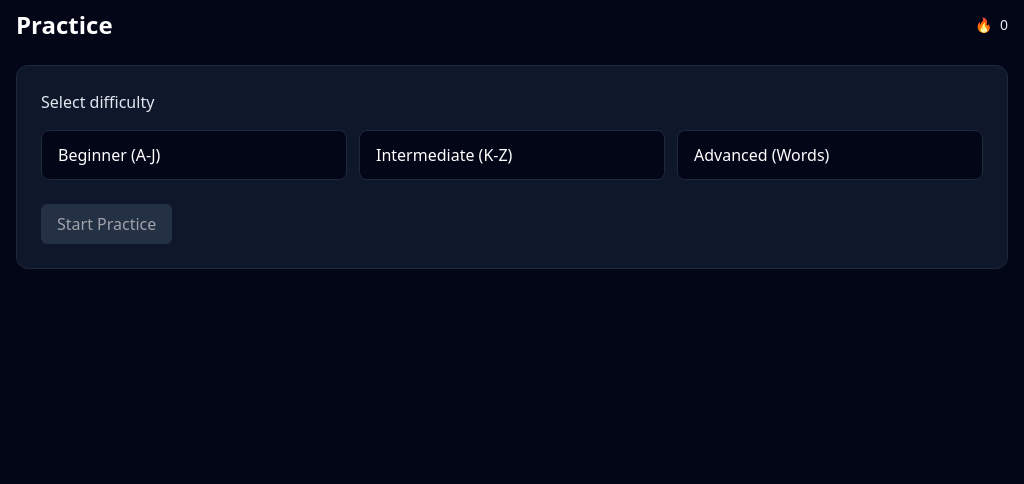
Test: Practice page › TEST 11.6 — Session summary shows after 10 signs
The image size is (1024, 484).
Click the button "Beginner (A-J)".
click(109, 155)  # box [41,130,347,180]
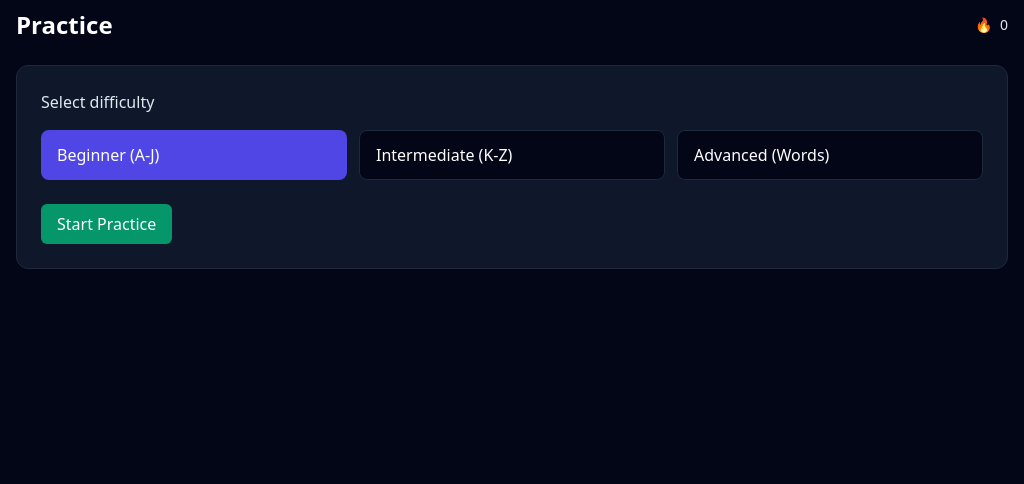
Click the button "Start Practice".
click(107, 224)  # box [41,204,172,244]
Wait 16666 ms
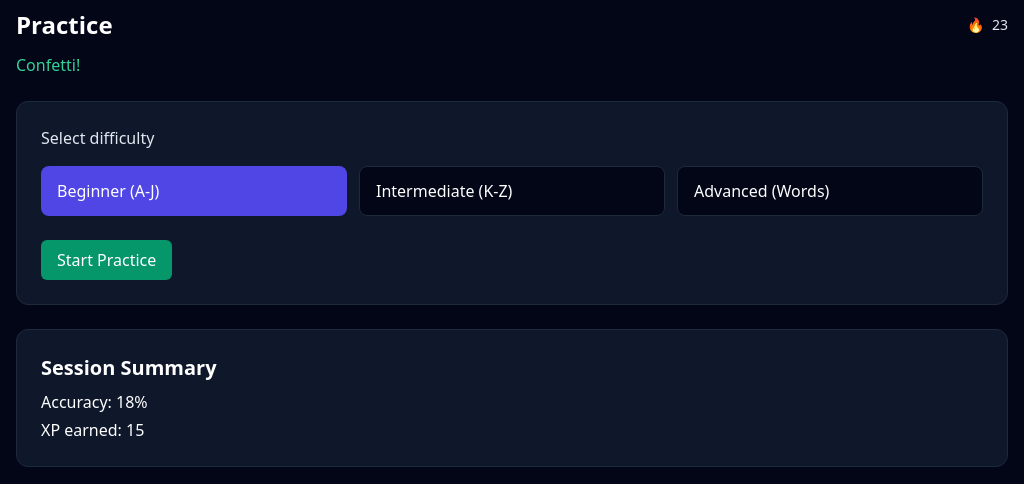
Result: the element labelled "Session Summary" is shown at [16,329,1008,467]
